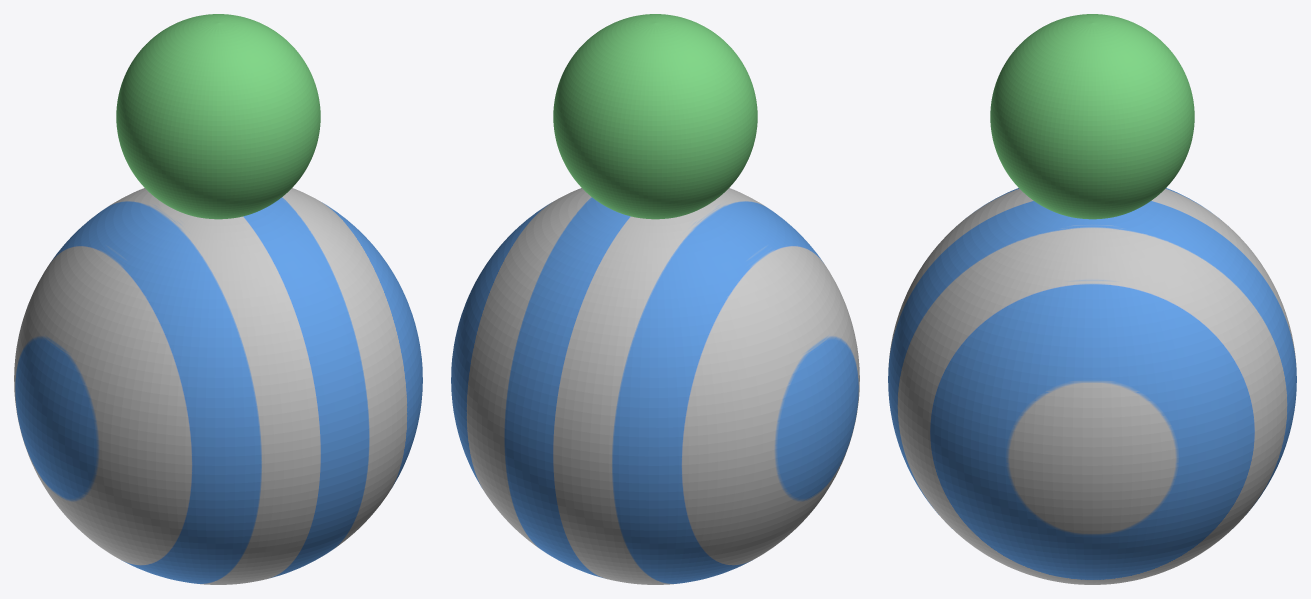
Rendered from BOD0_BMC1_BCC13_BPT1_FRC0_HEA0_HMC13_HCC0_HPT0_ELT0_ERT0_ELL0_ERL0_AP0_AAL0_AAR0_BEK0.fbx.
3 views of the same model, side by side, from view 1: azimuth 30°, elevation 25°; view 2: azimuth 150°, elevation 25°; view 3: azimuth 270°, elevation 25° (orthographic).
Parts seen in each view (by area): view 1: Body, Head; view 2: Body, Head; view 3: Body, Head.
Boxes of the visible parts, <box> form: Body: <box>14,188,422,584</box>; Head: <box>116,14,320,219</box>; Body: <box>451,188,859,584</box>; Head: <box>553,14,757,219</box>; Body: <box>888,188,1296,584</box>; Head: <box>990,14,1194,219</box>.
Bounding box in the file's own units: 98.72 × 145 × 98.72.
Materials: 2 (2 with a texture image).
